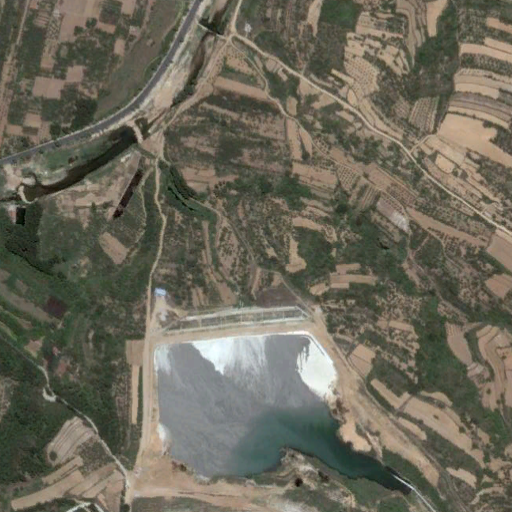tp: (143, 306, 414, 495)
